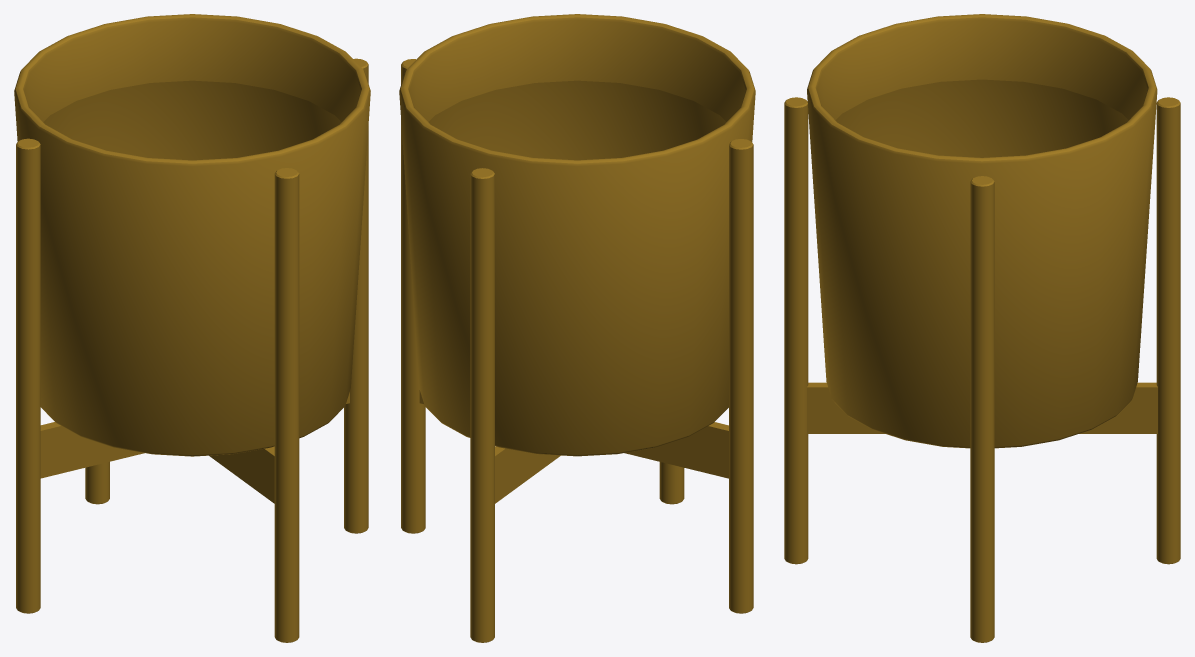
The model's file is Pot_7.FBX.
3 views of the same model, side by side, from view 1: azimuth 30°, elevation 25°; view 2: azimuth 150°, elevation 25°; view 3: azimuth 270°, elevation 25° (orthographic).
Parts seen in each view (by area): view 1: Pot_7; view 2: Pot_7; view 3: Pot_7.
Part boxes in pixels (left/top/right/bottom): Pot_7: left=14, top=14, right=370, bottom=642; Pot_7: left=399, top=14, right=755, bottom=642; Pot_7: left=784, top=14, right=1180, bottom=642.
Size of the model in its own units: 38.38 by 50.55 by 38.38.
